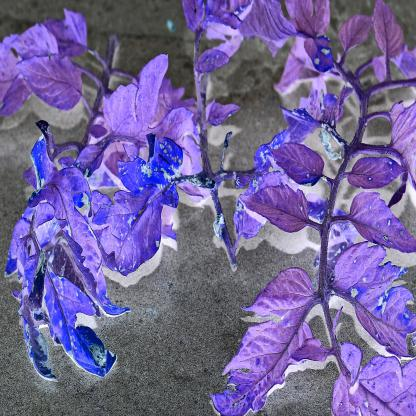tomato septoria leaf spot: (208, 274, 320, 416), (101, 143, 193, 271), (34, 249, 118, 376), (330, 244, 416, 356)
